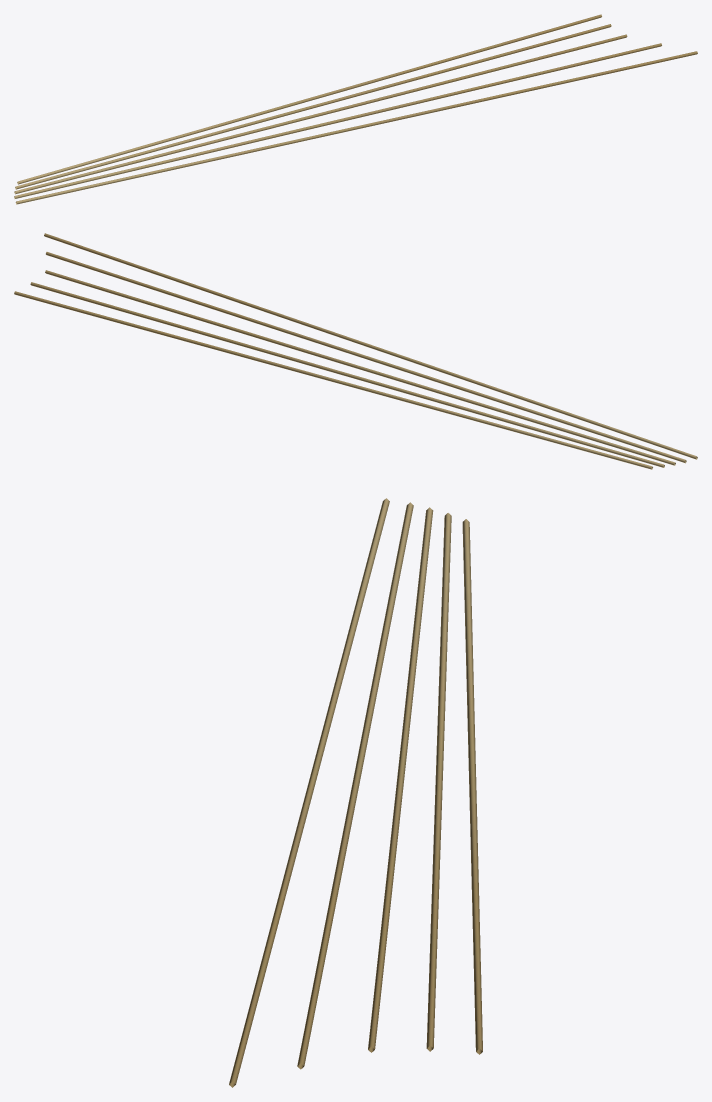
The model's file is Homeworld_Exterior_Ly_Decoration_Prop_Guqin_02_Vo.fbx.
3 renders of one model, top to bottom at view 1: azimuth 30°, elevation 25°; view 2: azimuth 150°, elevation 25°; view 3: azimuth 270°, elevation 25°, orthographic. The views are drawn at different scales.
Visible parts, largest first — view 1: Homeworld_Exterior_Ly_Decoration_Prop_Guqin_02_Vo; view 2: Homeworld_Exterior_Ly_Decoration_Prop_Guqin_02_Vo; view 3: Homeworld_Exterior_Ly_Decoration_Prop_Guqin_02_Vo.
Boxes of the visible parts, x1=… form: Homeworld_Exterior_Ly_Decoration_Prop_Guqin_02_Vo: x1=14, y1=14, x2=697, y2=204; Homeworld_Exterior_Ly_Decoration_Prop_Guqin_02_Vo: x1=14, y1=233, x2=697, y2=469; Homeworld_Exterior_Ly_Decoration_Prop_Guqin_02_Vo: x1=229, y1=498, x2=482, y2=1087.
Bounding box in the file's own units: 2.12 × 0.0787 × 0.3631.
